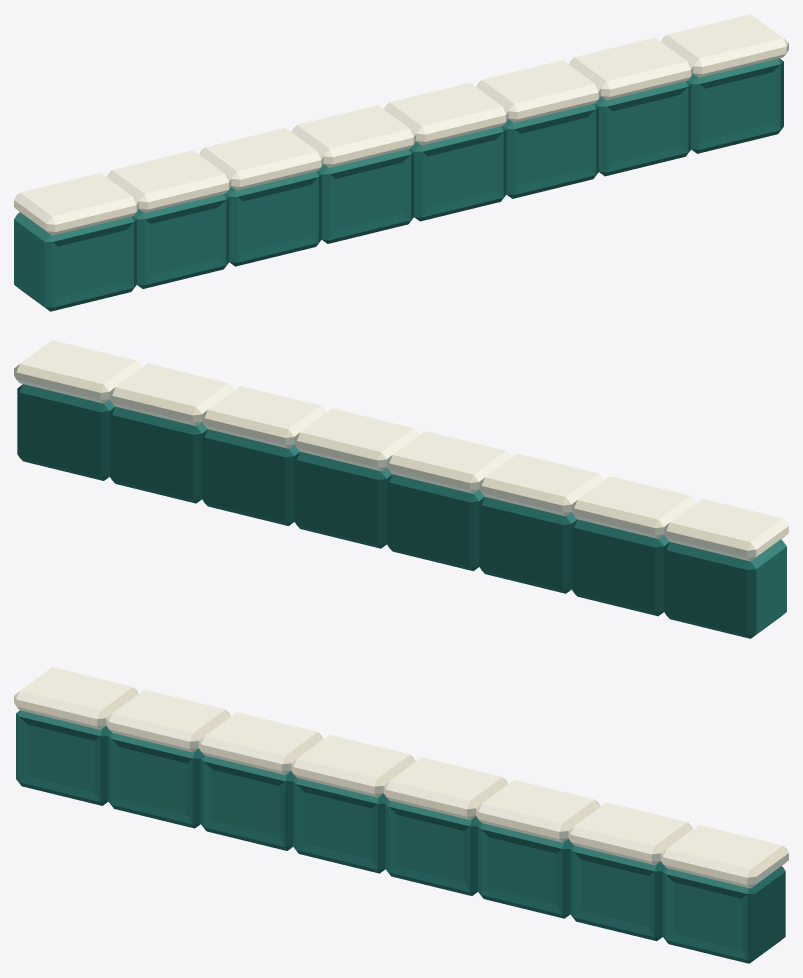
File: Terrain_TopRun8R.gltf
The picture shows the model from 3 angles, top to bottom: view 1: azimuth 30°, elevation 25°; view 2: azimuth 150°, elevation 25°; view 3: azimuth 330°, elevation 25°; orthographic projection.
Visible parts, largest first — view 1: Terrain_TopRun8R_baked; view 2: Terrain_TopRun8R_baked; view 3: Terrain_TopRun8R_baked.
Part boxes in pixels (x1=…): Terrain_TopRun8R_baked: x1=14, y1=14, x2=788, y2=311; Terrain_TopRun8R_baked: x1=14, y1=340, x2=788, y2=638; Terrain_TopRun8R_baked: x1=14, y1=667, x2=788, y2=963.
Bounding box in the file's own units: 8.03 × 1 × 0.735.
